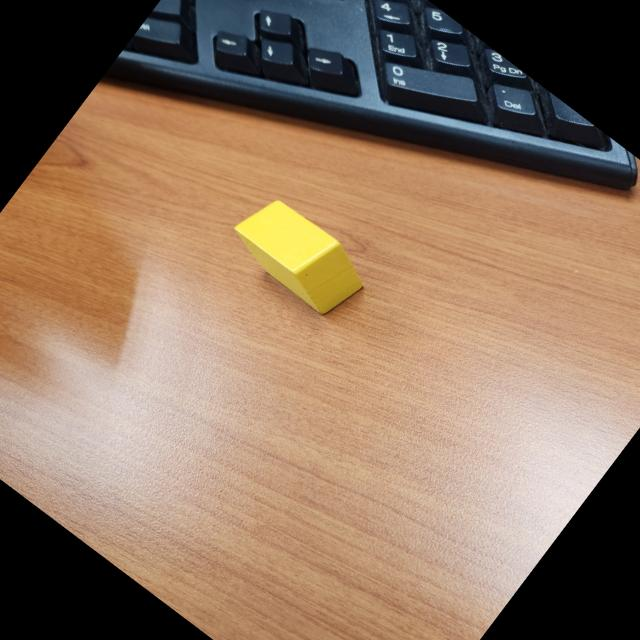yellow: (222, 186, 376, 326)
